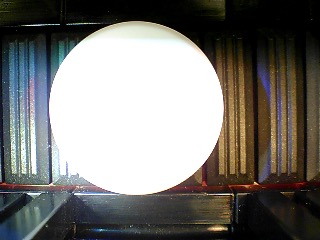BLANK: (48, 20, 225, 196)
